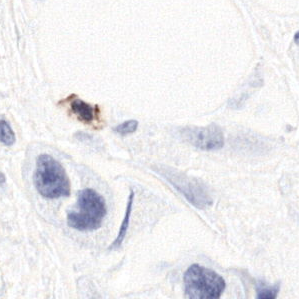Lymphocyte: (61, 92, 105, 126)
